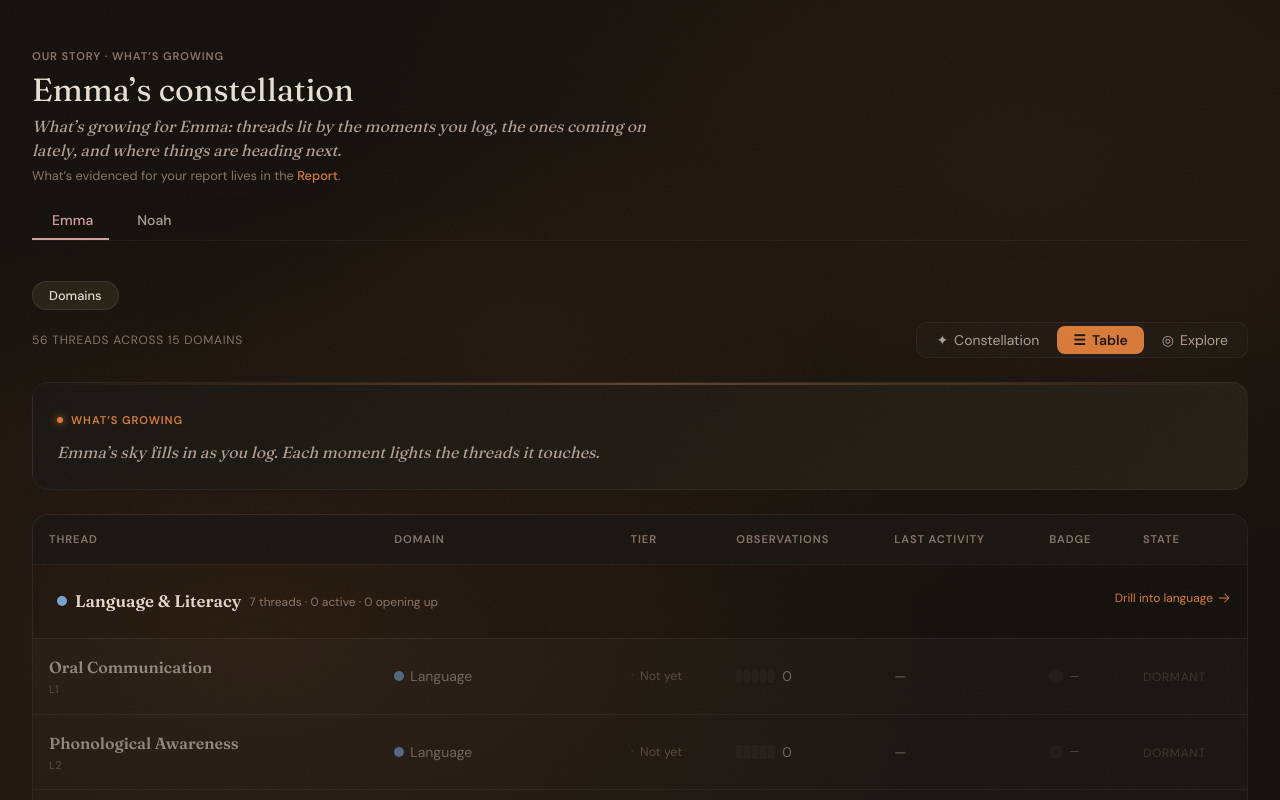
Test: ConstellationRoute › DLO confirm optimistic override › reverts the optimistic flip and toasts an error when the POST fails
This screenshot has width=1280, height=800.
Click the button "Drill into" at (640, 601), box [33,564,1247,638]
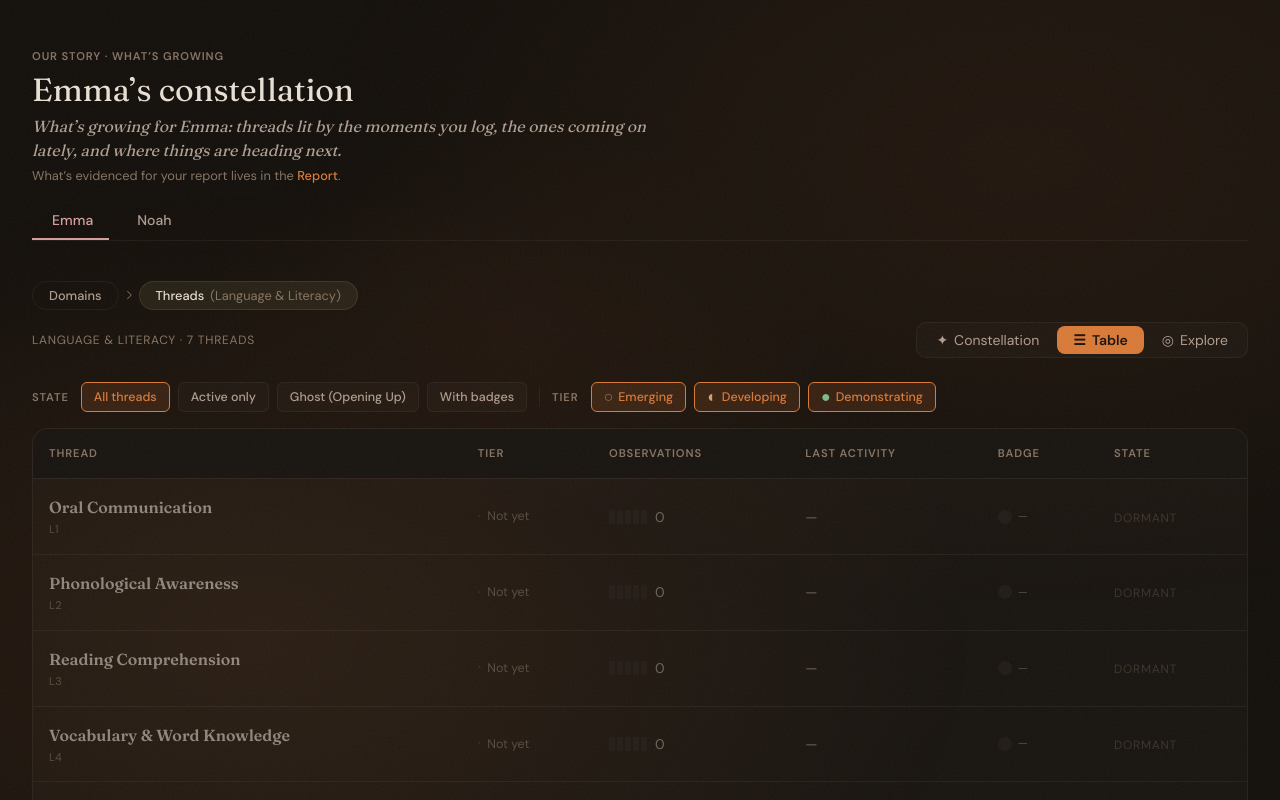
Click the button "Oral Communication L1 · Not yet 0 — — Dormant" at (640, 517), box [33,479,1247,555]
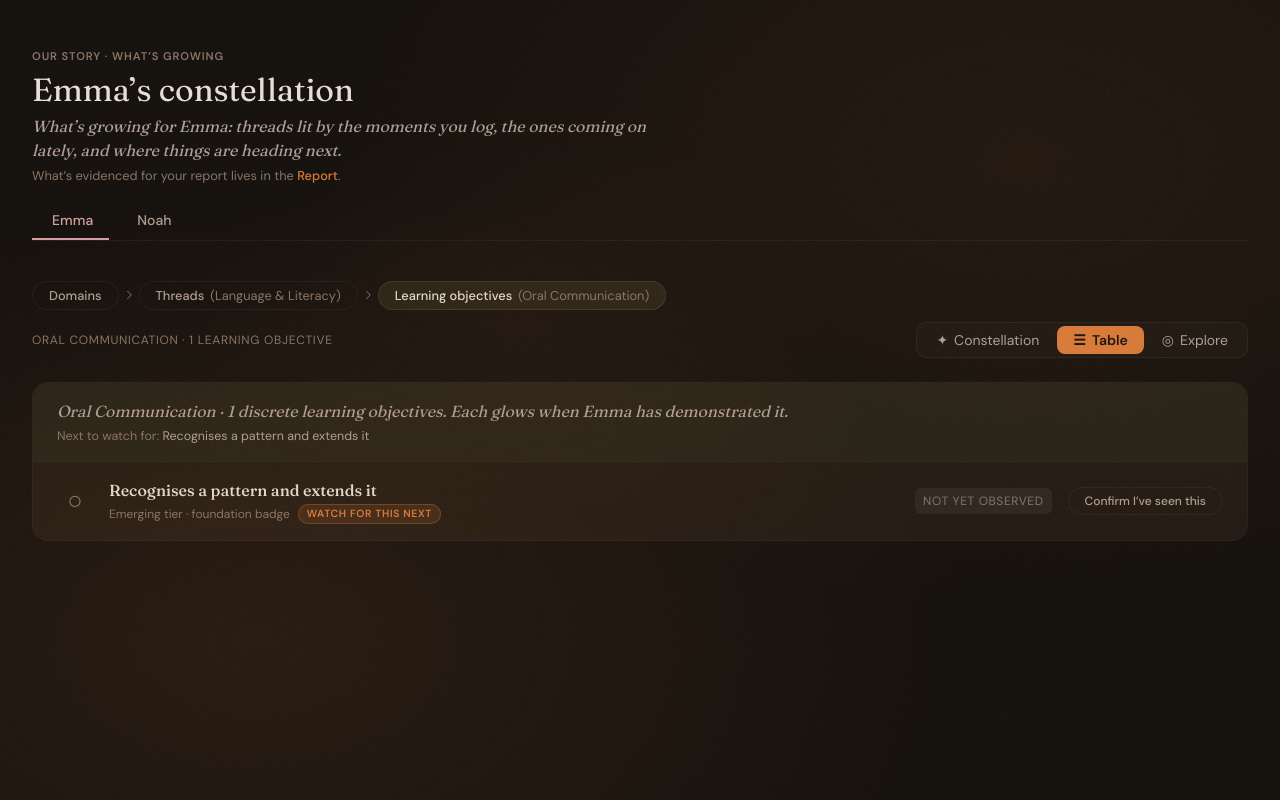
Click the button with aria-label "confirm you've seen" at (1145, 501), box [1068,487,1223,515]
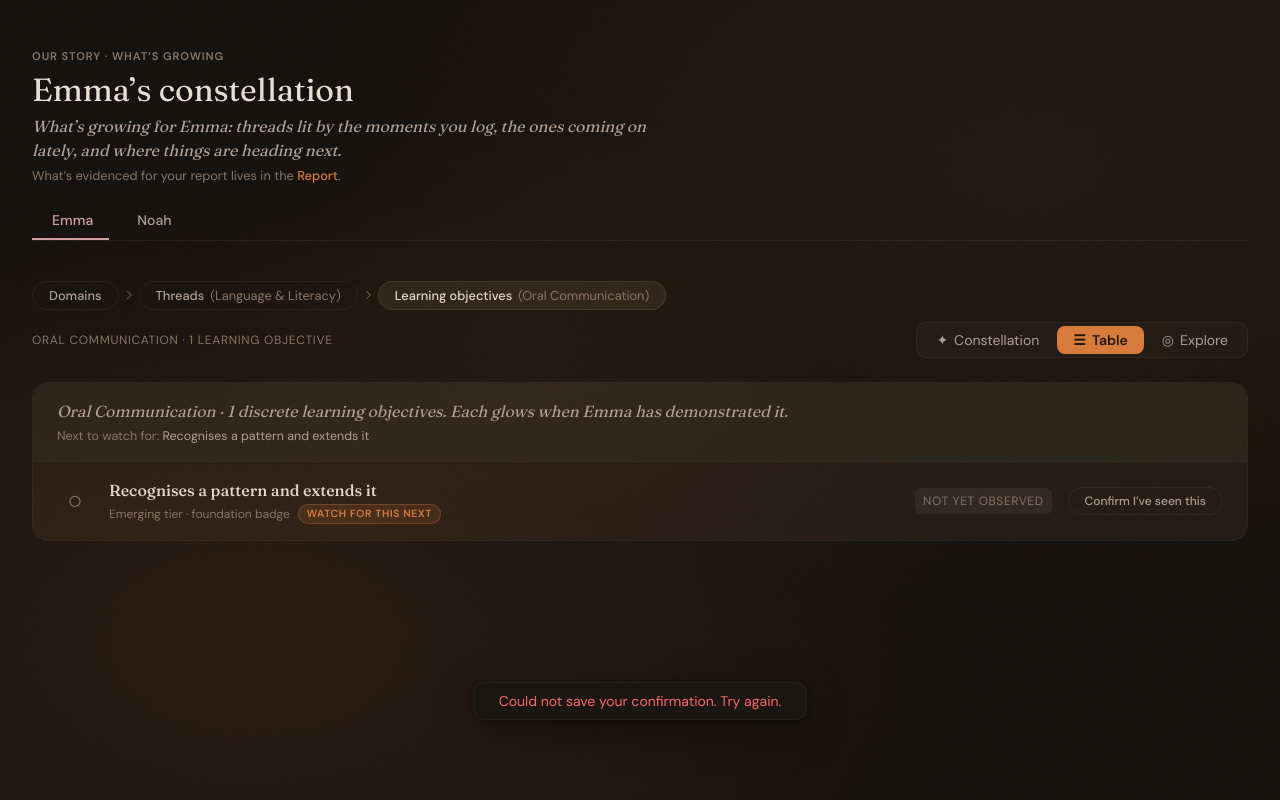
Result: the button named "you confirmed" is shown at [1068,487,1223,515]
Result: the text "Could not save your confirmation. Try again." is shown at [474,682,806,720]
